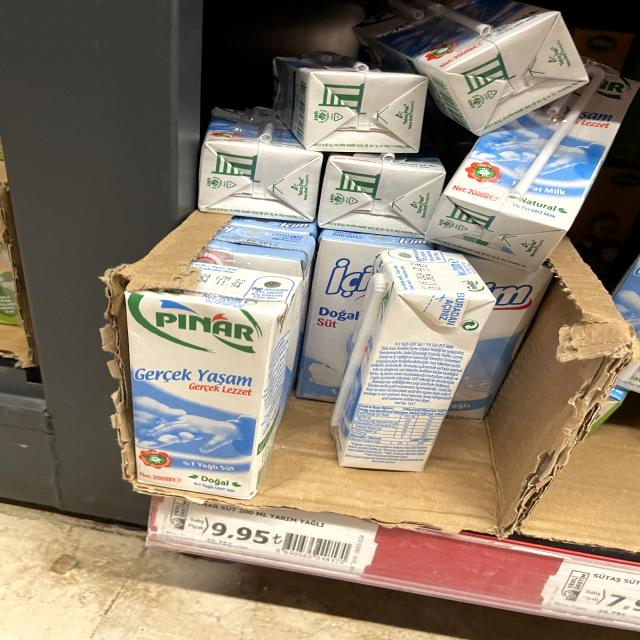milk: (125, 266, 288, 491)
